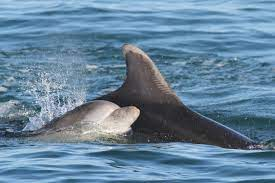fin: (55, 36, 265, 160)
